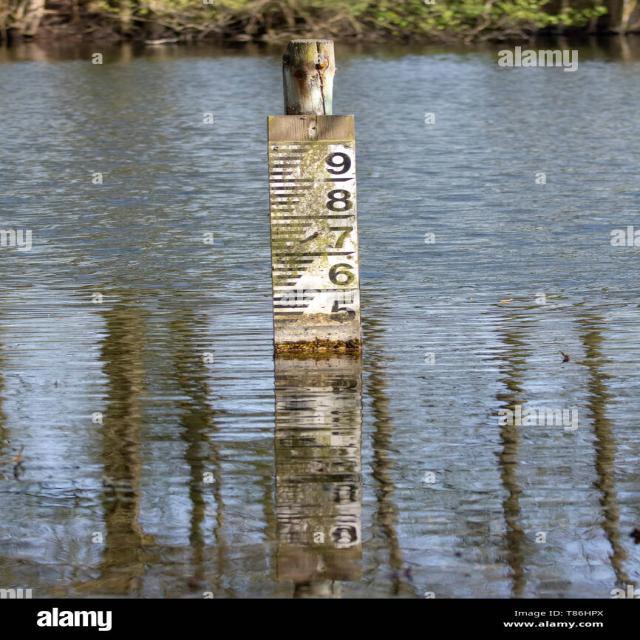ruler: (257, 114, 386, 358)
value: (318, 295, 367, 328), (316, 257, 363, 291), (318, 184, 358, 218), (318, 222, 361, 252), (320, 147, 356, 182)
